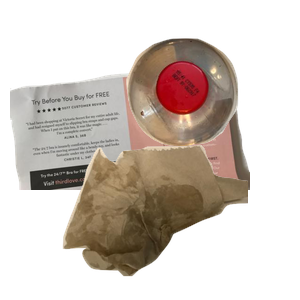glass: (94, 184, 253, 300)
paper: (10, 61, 250, 241)
plastic: (124, 36, 300, 175)
trash: (60, 142, 300, 300)
